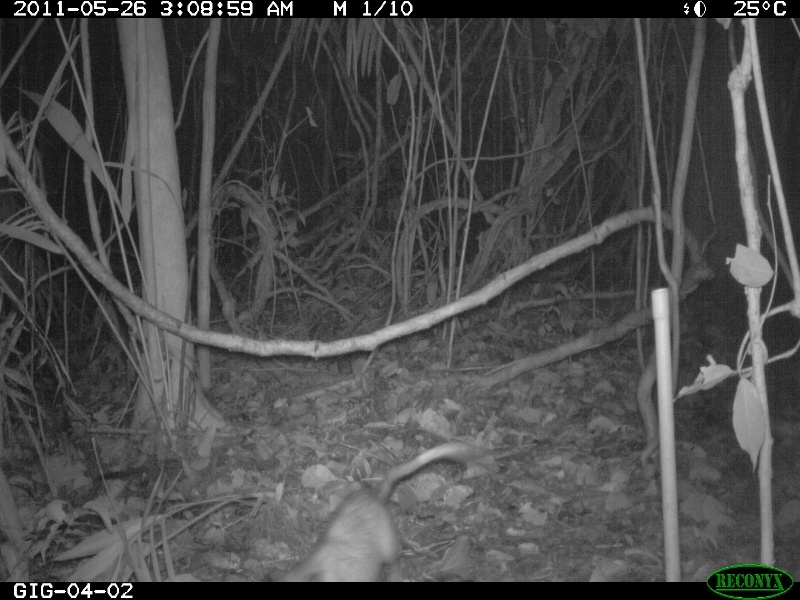opossum: (262, 442, 478, 580)
